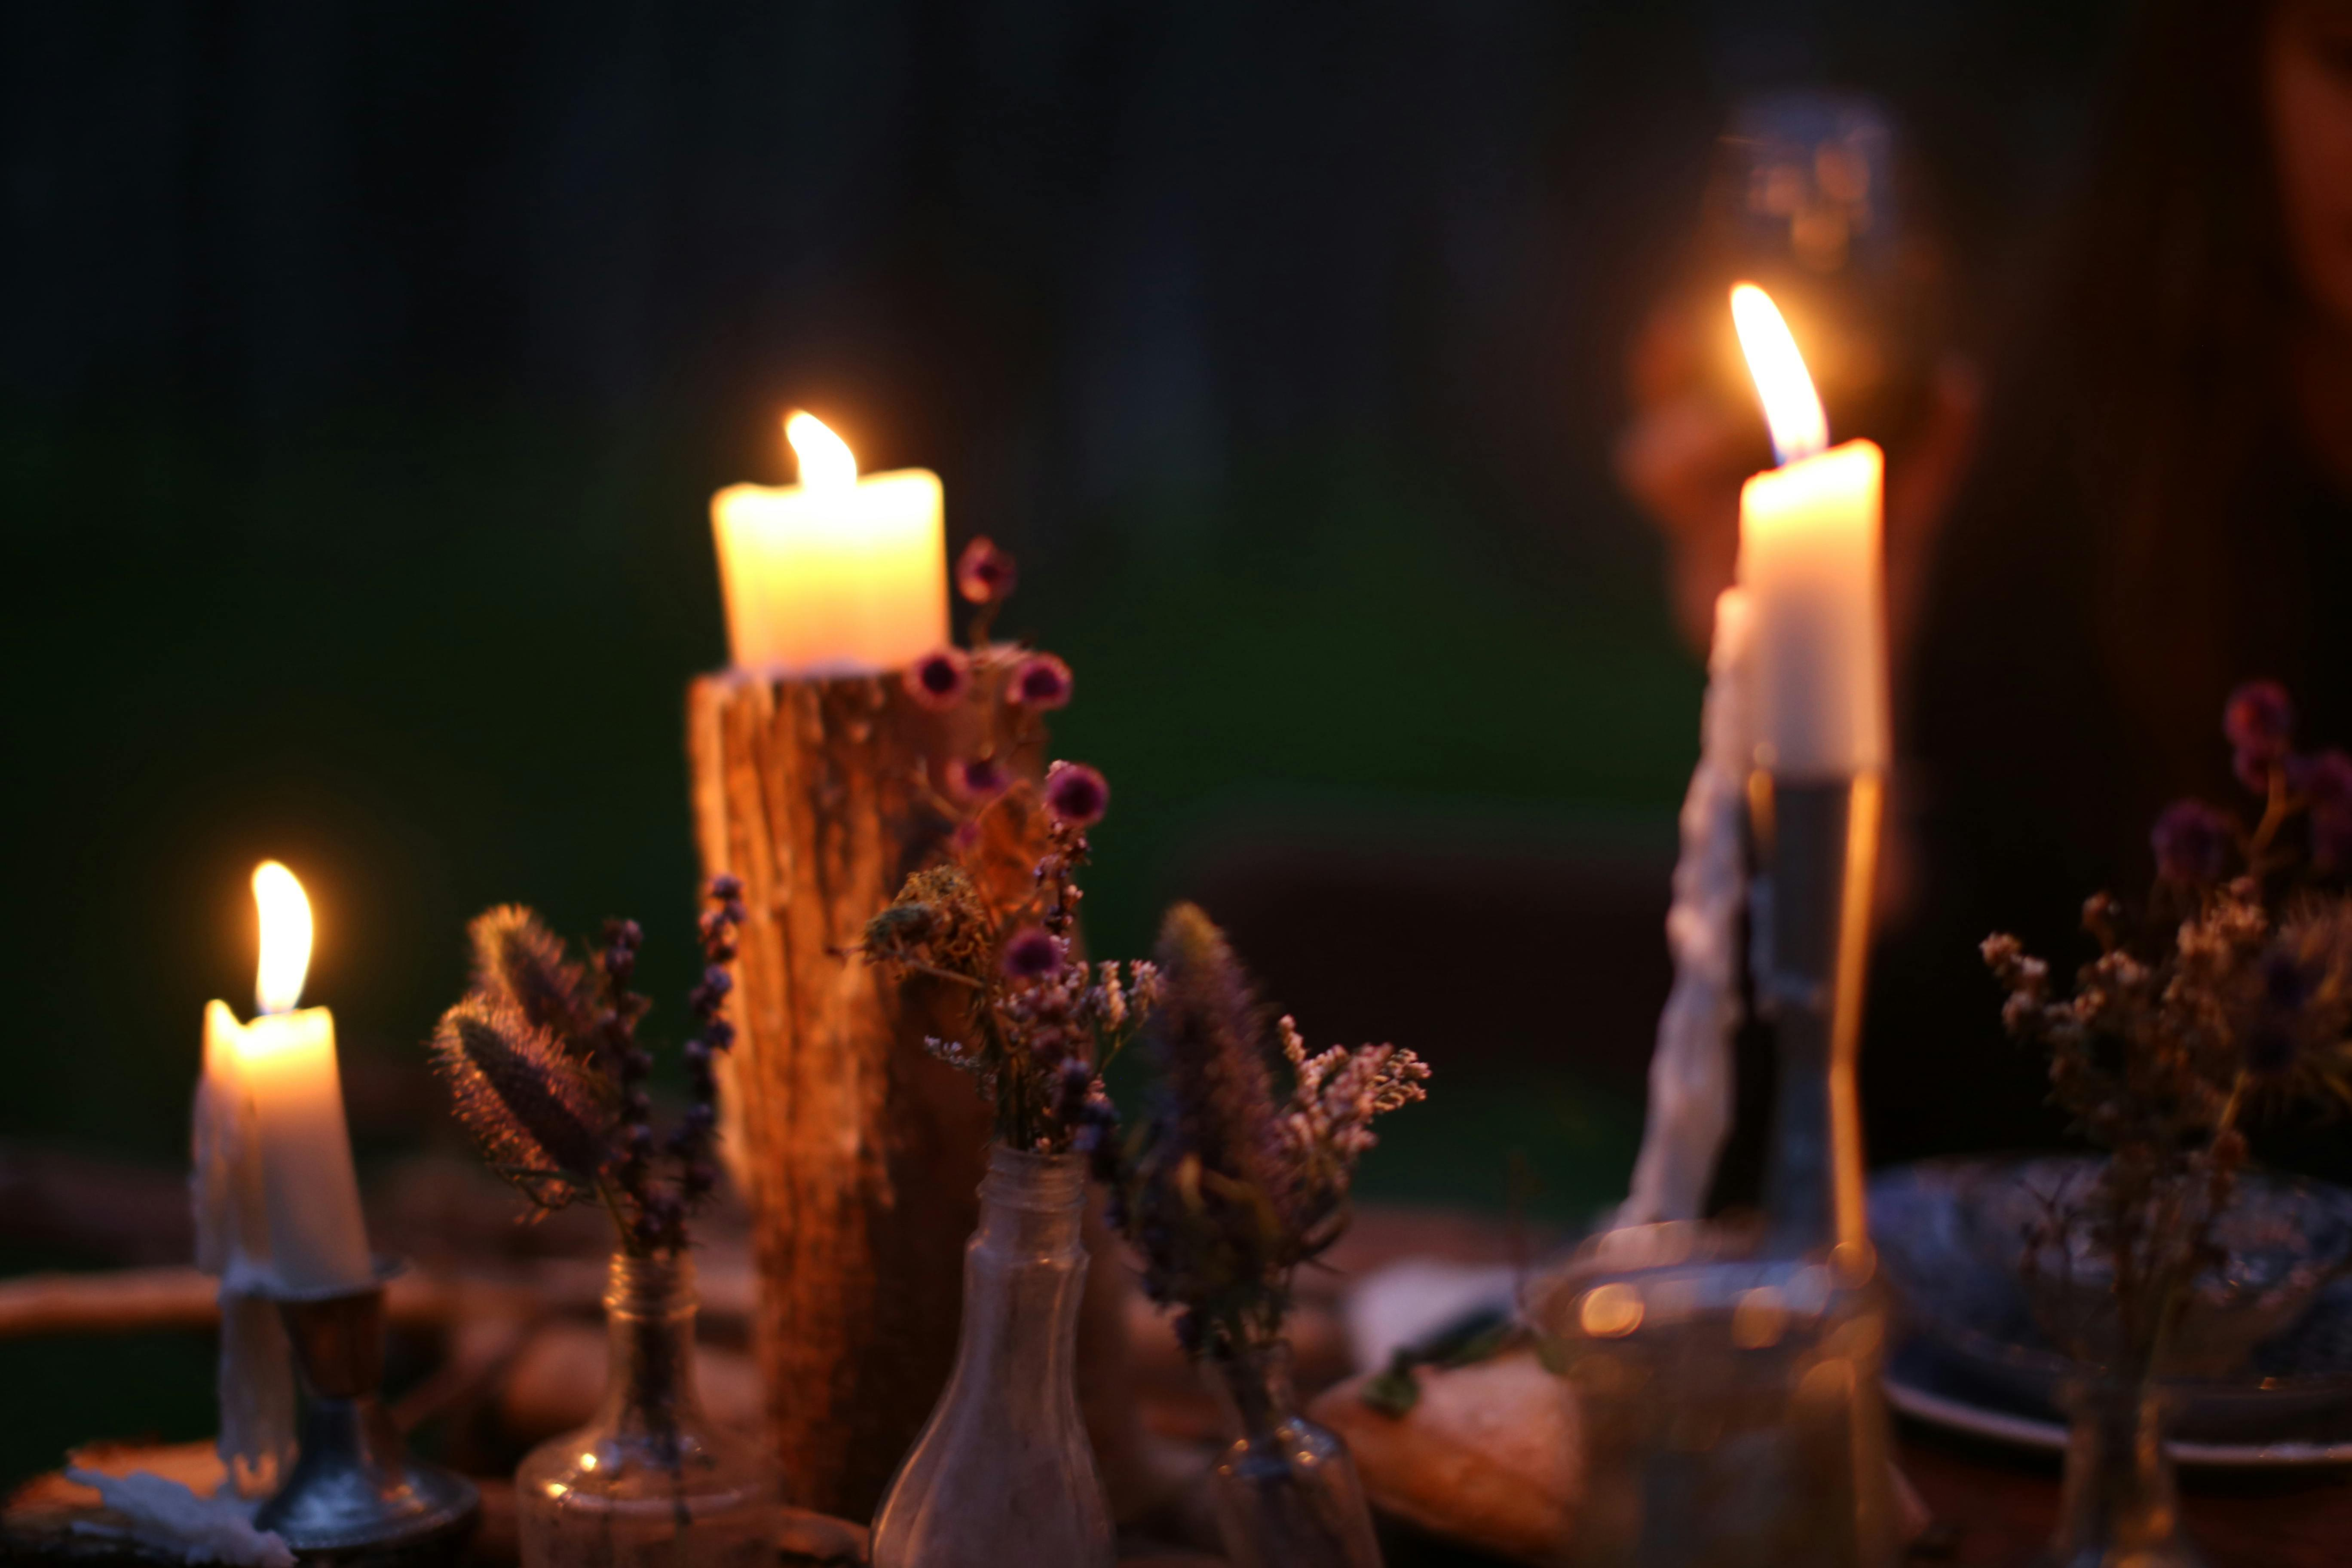Fire: (241, 292, 1857, 1076)
